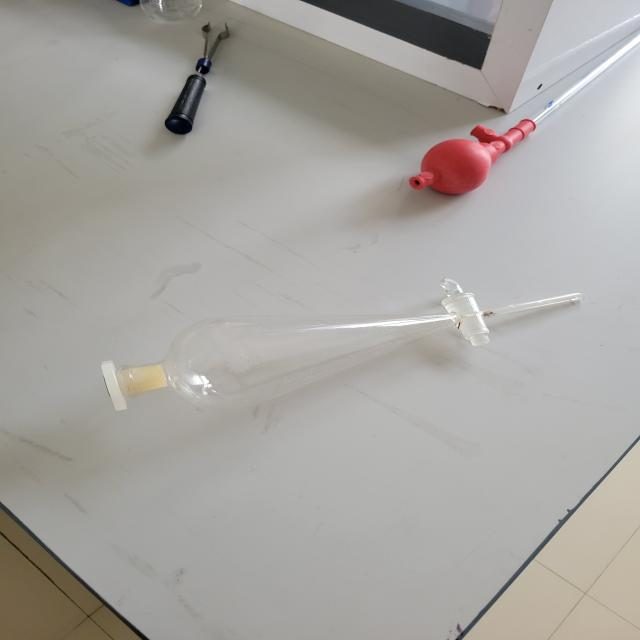Separating_Funnel: (87, 281, 594, 431)
Volumetric_Pipet: (381, 78, 640, 227)
